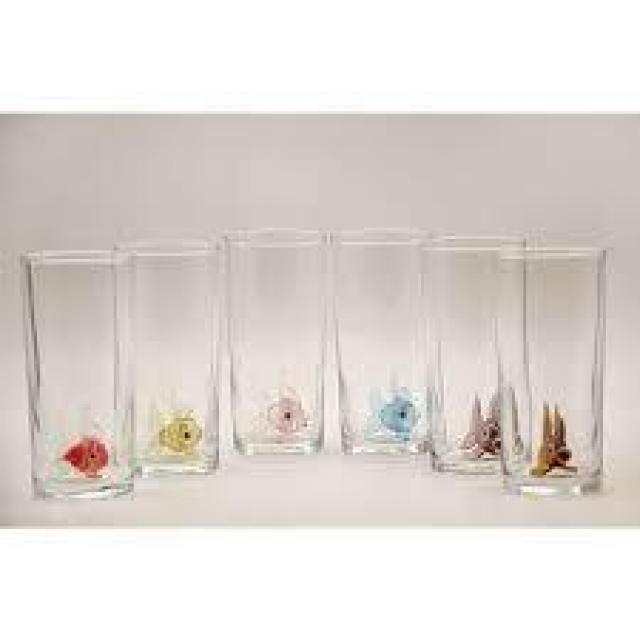glass: (17, 249, 137, 502), (498, 248, 606, 492), (220, 233, 328, 458), (328, 226, 431, 457)
